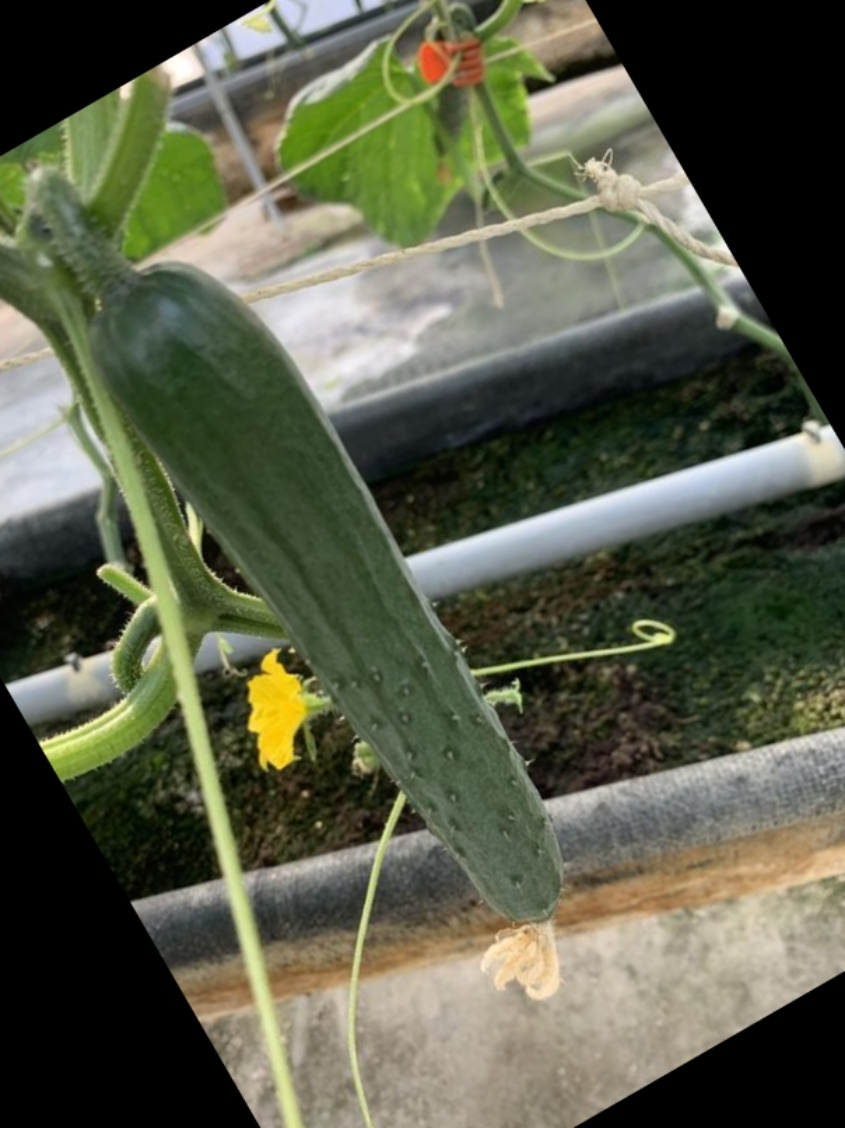mature: (107, 265, 610, 922)
